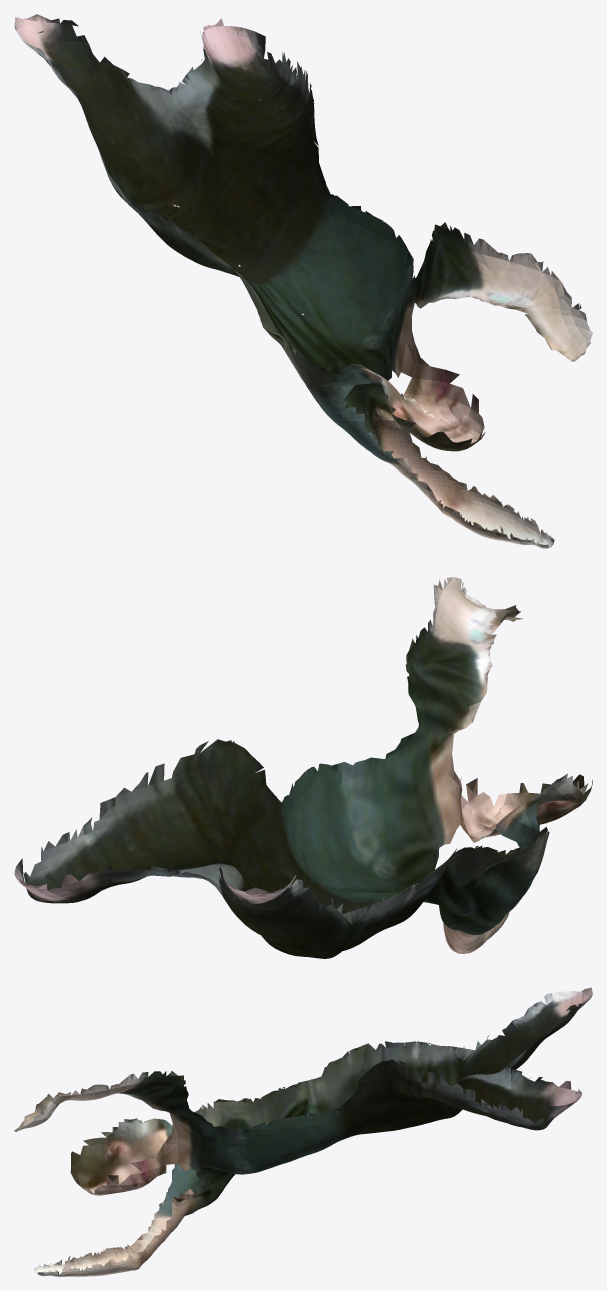
Rendered from Josiane.obj.
The picture shows the model from 3 angles, top to bottom: view 1: azimuth 30°, elevation 25°; view 2: azimuth 150°, elevation 25°; view 3: azimuth 270°, elevation 25°; orthographic projection. The views are drawn at different scales.
Parts seen in each view (by area): view 1: Object.1; view 2: Object.1; view 3: Object.1.
Boxes of the visible parts, <box> form: Object.1: <box>14,14,592,548</box>; Object.1: <box>14,577,592,958</box>; Object.1: <box>14,987,592,1276</box>.
Size of the model in its own units: 452 by 561 by 1257.
1 material, 1 textured.
